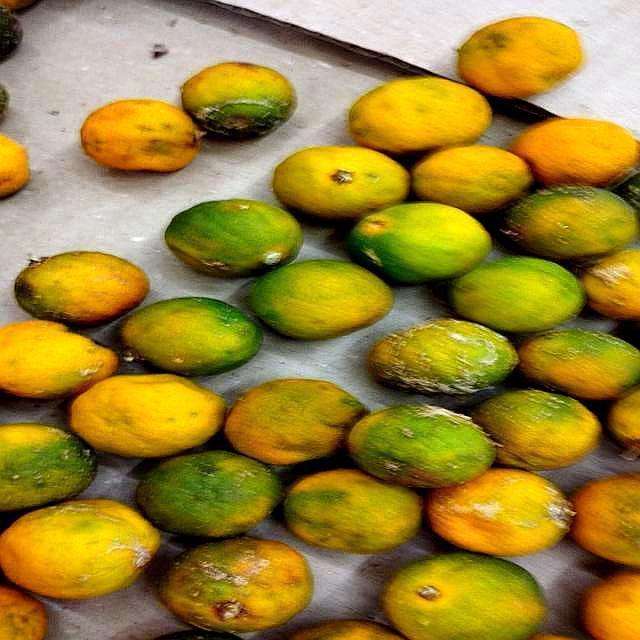Biodegradable: (1, 19, 640, 640)
